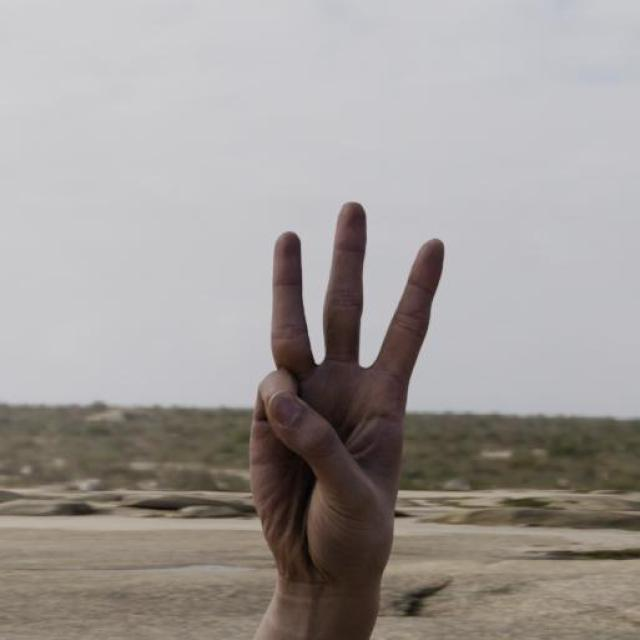W: (223, 183, 492, 632)
